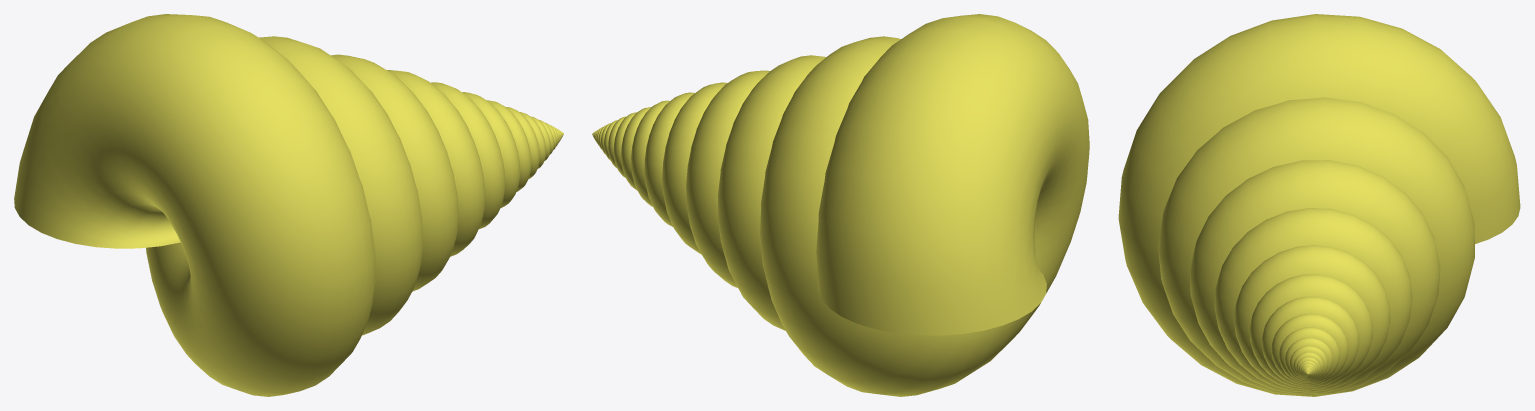
3 renders of one model, left to right at view 1: azimuth 30°, elevation 25°; view 2: azimuth 150°, elevation 25°; view 3: azimuth 270°, elevation 25°, orthographic. The views are drawn at different scales.
Parts seen in each view (by area): view 1: t11; view 2: t11; view 3: t11.
Part boxes in pixels (<box>): t11: <box>14,14,563,396</box>; t11: <box>592,14,1089,396</box>; t11: <box>1118,14,1520,396</box>.
Size of the model in its own units: 500 by 354 by 375.
